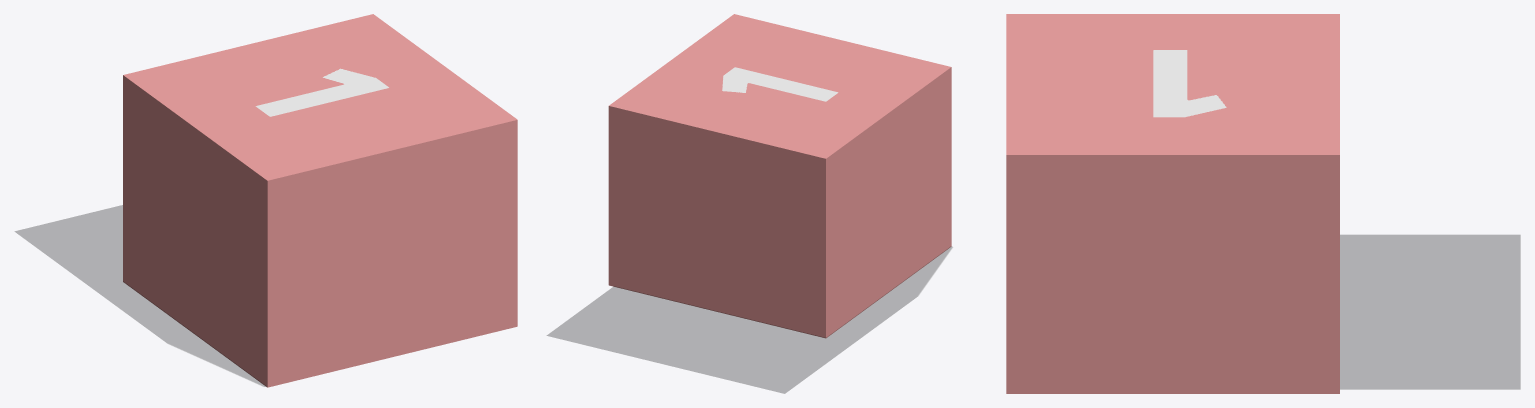
The model's file is numbered_block_0.glb.
3 renders of one model, left to right at view 1: azimuth 30°, elevation 25°; view 2: azimuth 150°, elevation 25°; view 3: azimuth 270°, elevation 25°, orthographic. The views are drawn at different scales.
Parts seen in each view (by area): view 1: hitObj, block, Object3D; view 2: hitObj, block, Object3D; view 3: hitObj, block, Object3D.
Boxes of the visible parts, x1,y1,x2,y2 form: hitObj: (123,14,517,387); block: (15,205,266,386); Object3D: (255,68,388,116); hitObj: (608,14,951,338); block: (547,246,952,393); Object3D: (722,67,838,101); hitObj: (1006,14,1339,393); block: (1340,235,1520,389); Object3D: (1153,50,1226,117).
Bounding box in the file's own units: 7.88 × 5.57 × 10.81.
Materials: 4 (3 with a texture image).
